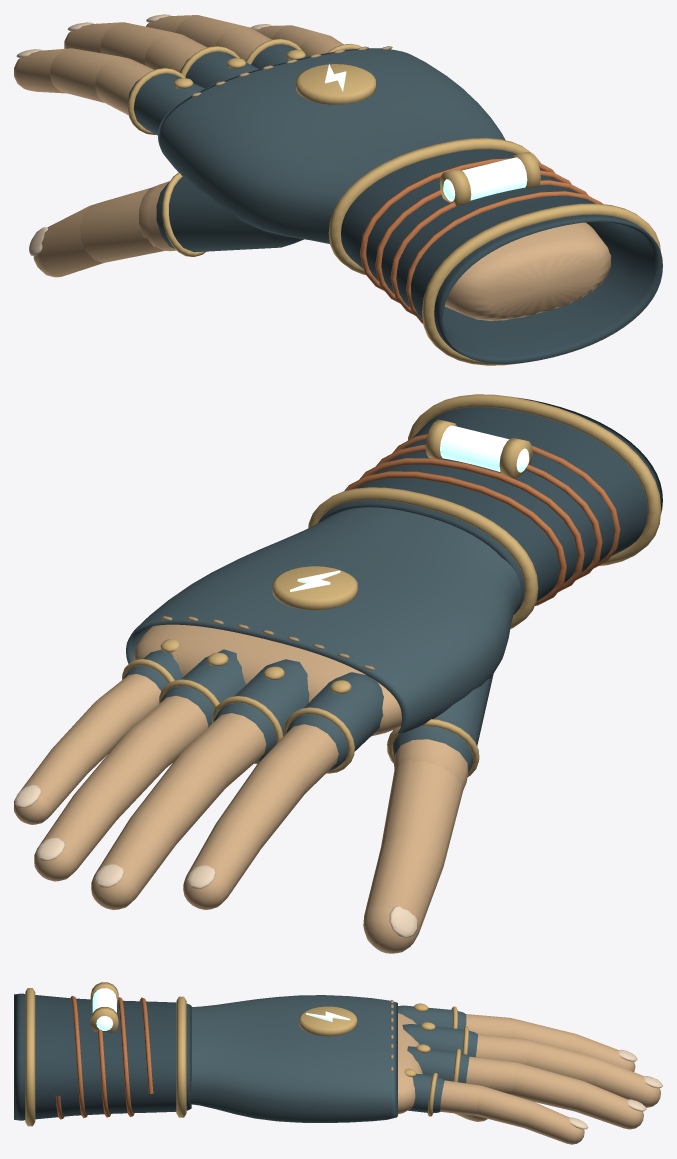
The model's file is pocket_thunder_hand_R.glb.
The picture shows the model from 3 angles, top to bottom: view 1: azimuth 30°, elevation 25°; view 2: azimuth 150°, elevation 25°; view 3: azimuth 270°, elevation 25°; orthographic projection. The views are drawn at different scales.
Parts seen in each view (by area): view 1: R_GloveBack, R_Cuff, R_Palm, R_Thumb_Sleeve, R_ThunderCoil, R_CuffBand2, R_Thumb_1_Skin, R_CuffBand1, R_Thumb_2_Skin, R_Medallion, R_Index_2_Skin, R_Index_Sleeve (+17 smaller); view 2: R_GloveBack, R_Cuff, R_ThunderCoil, R_Palm, R_Thumb_2_Skin, R_Thumb_1_Skin, R_CuffBand2, R_Middle_2_Skin, R_Middle_3_Skin, R_CuffBand1, R_Ring_2_Skin, R_Index_2_Skin (+19 smaller); view 3: R_GloveBack, R_Cuff, R_ThunderCoil, R_Ring_2_Skin, R_Middle_2_Skin, R_Ring_3_Skin, R_Middle_3_Skin, R_Pinky_2_Skin, R_CuffBand2, R_Palm, R_Pinky_3_Skin, R_Ring_1_Skin (+13 smaller).
Part boxes in pixels (<box>): R_GloveBack: <box>158,48,505,243</box>; R_Cuff: <box>341,149,662,363</box>; R_Palm: <box>445,222,611,320</box>; R_Thumb_Sleeve: <box>156,176,303,252</box>; R_ThunderCoil: <box>360,158,602,323</box>; R_CuffBand2: <box>422,203,660,365</box>; R_Thumb_1_Skin: <box>80,188,164,262</box>; R_CuffBand1: <box>328,138,540,274</box>; R_Thumb_2_Skin: <box>33,205,103,277</box>; R_Medallion: <box>296,64,375,104</box>; R_Index_2_Skin: <box>50,48,128,102</box>; R_Index_Sleeve: <box>127,73,204,135</box>; R_GloveBack: <box>126,507,520,733</box>; R_Cuff: <box>318,397,662,614</box>; R_ThunderCoil: <box>344,434,620,605</box>; R_Palm: <box>133,624,401,736</box>; R_Thumb_2_Skin: <box>363,838,443,953</box>; R_Thumb_1_Skin: <box>381,758,462,865</box>; R_CuffBand2: <box>408,394,661,565</box>; R_Middle_2_Skin: <box>130,748,228,844</box>; R_Middle_3_Skin: <box>91,812,176,909</box>; R_CuffBand1: <box>308,487,538,628</box>; R_Ring_2_Skin: <box>75,728,170,819</box>; R_Index_2_Skin: <box>216,757,306,848</box>; R_GloveBack: <box>190,995,397,1122</box>; R_Cuff: <box>14,993,191,1120</box>; R_ThunderCoil: <box>55,996,153,1119</box>; R_Ring_2_Skin: <box>511,1062,583,1111</box>; R_Middle_2_Skin: <box>525,1039,597,1084</box>; R_Ring_3_Skin: <box>575,1081,643,1129</box>; R_Middle_3_Skin: <box>592,1057,660,1107</box>; R_Pinky_2_Skin: <box>476,1086,532,1127</box>; R_CuffBand2: <box>25,988,35,1126</box>; R_Palm: <box>398,1013,422,1114</box>; R_Pinky_3_Skin: <box>524,1101,584,1144</box>; R_Ring_1_Skin: <box>466,1056,516,1094</box>.
Bounding box in the file's own units: 0.1194 × 0.088 × 0.2789.
